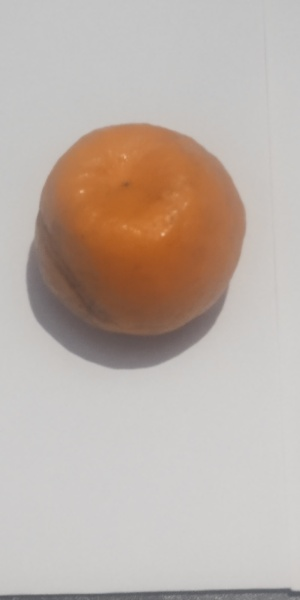BAD: (28, 116, 250, 345)
